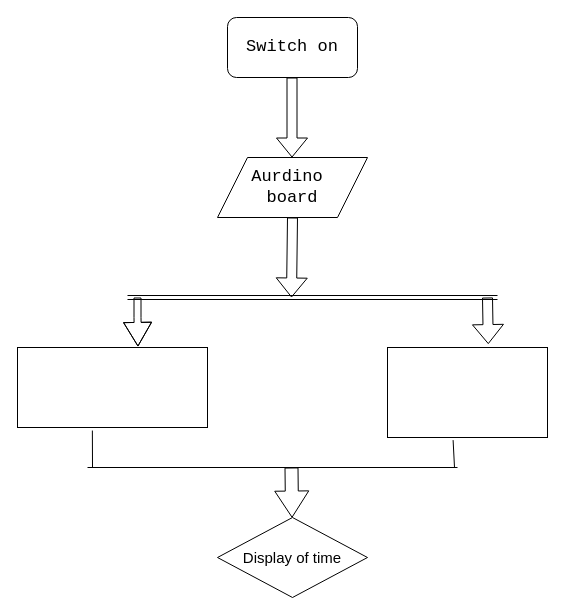
The diagram is 565 pixels wide and 615 high, and some of its shapes have lost their labels. The centre of each missing label's shape, as x and y in pixels:
Rotation of hours hand in clock wise direction through stepper motor: pixel 112 387
Rotation of minutes hand in clock wise direction through stepper motor: pixel 467 392
